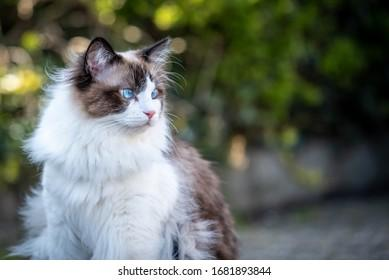ragdoll: (72, 30, 177, 142)
